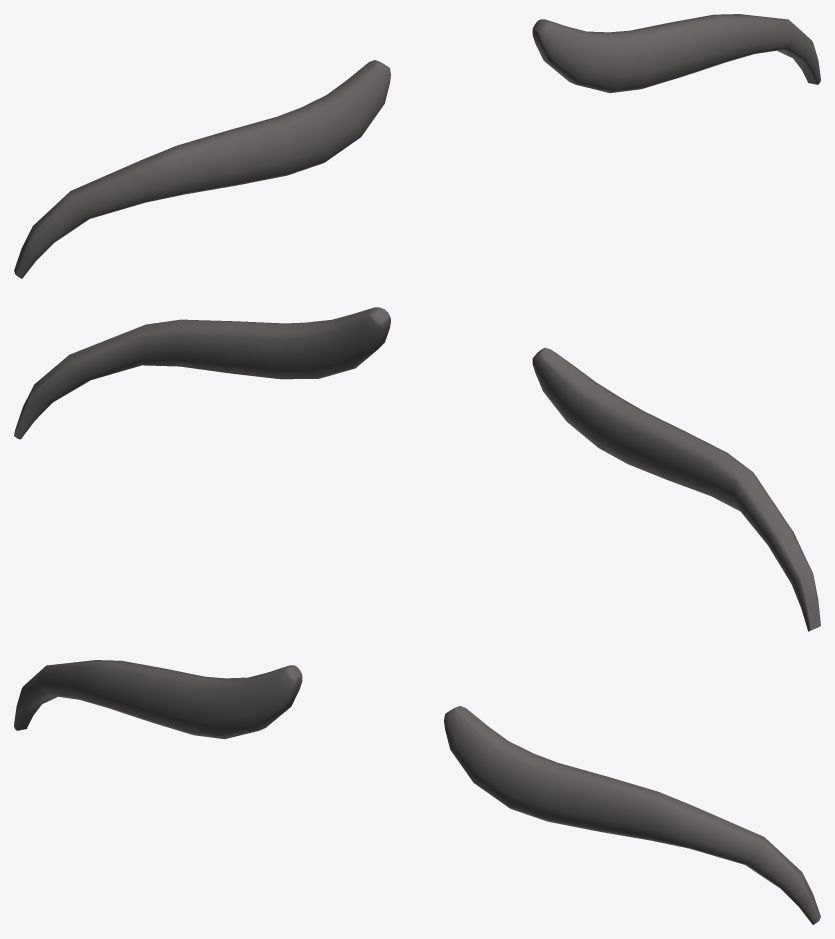
The model's file is Eyebrows_21_04.fbx.
3 views of the same model, one above another, from view 1: azimuth 30°, elevation 25°; view 2: azimuth 150°, elevation 25°; view 3: azimuth 330°, elevation 25° (orthographic).
Parts seen in each view (by area): view 1: Eyebrows_21_04; view 2: Eyebrows_21_04; view 3: Eyebrows_21_04.
Part boxes in pixels (x1=…): Eyebrows_21_04: x1=14, y1=14, x2=820, y2=278; Eyebrows_21_04: x1=14, y1=307, x2=820, y2=631; Eyebrows_21_04: x1=14, y1=660, x2=820, y2=924.
Size of the model in its own units: 18.62 by 3.81 by 2.44.
